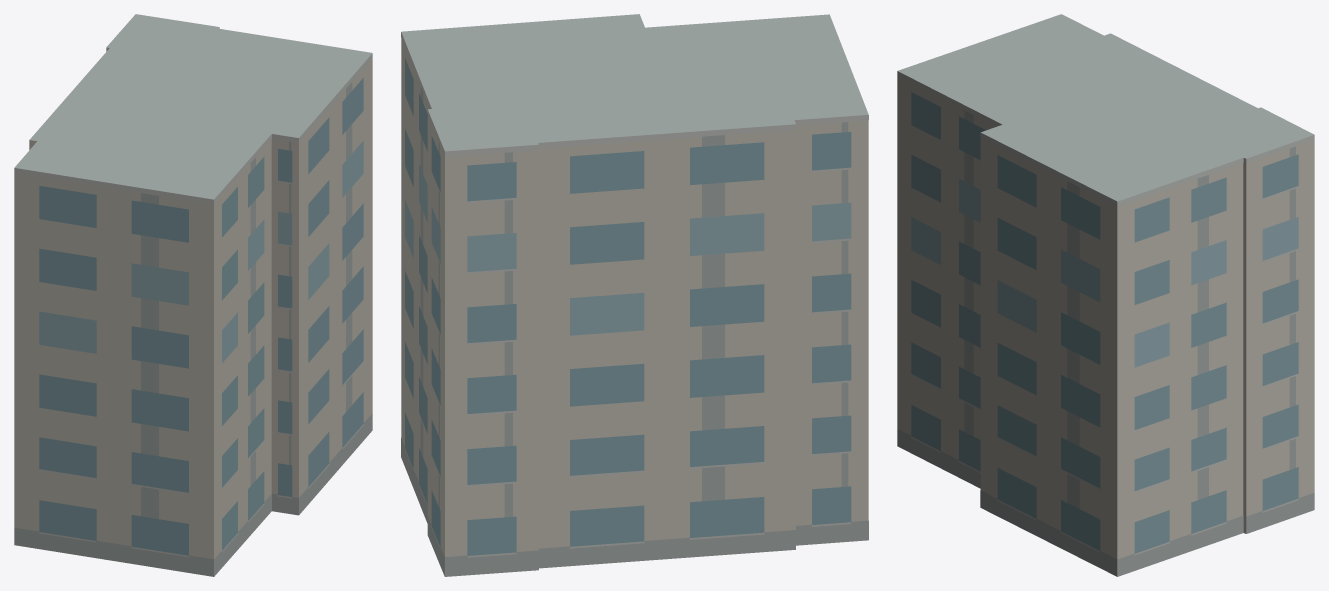
File: survey-upis-32848899.glb
3 views of the same model, side by side, from view 1: azimuth 30°, elevation 25°; view 2: azimuth 150°, elevation 25°; view 3: azimuth 270°, elevation 25° (orthographic). The views are drawn at different scales.
Parts seen in each view (by area): view 1: survey-upis-32848899.tmp; view 2: survey-upis-32848899.tmp; view 3: survey-upis-32848899.tmp.
Boxes of the visible parts, x1,y1,x2,y2 form: survey-upis-32848899.tmp: [14, 14, 372, 576]; survey-upis-32848899.tmp: [401, 14, 868, 576]; survey-upis-32848899.tmp: [897, 14, 1314, 576].
Size of the model in its own units: 19.63 by 18.3 by 18.45.
